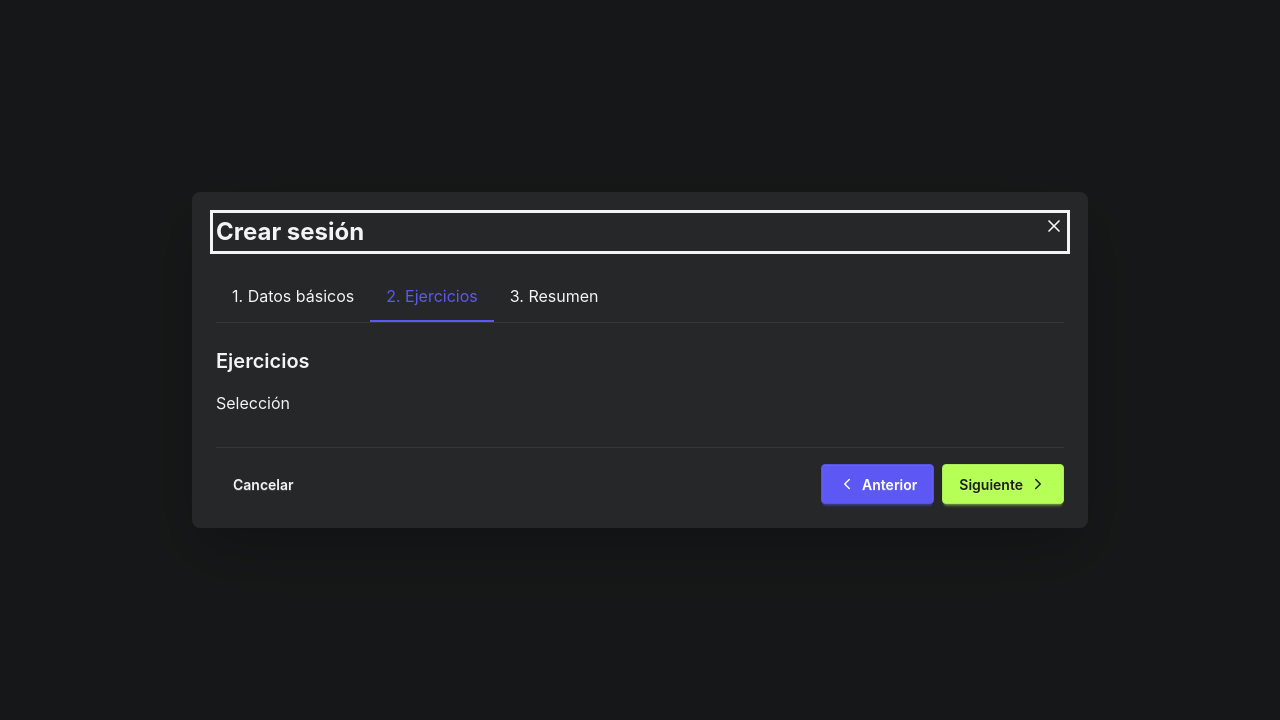
Test: shows summary without saving from the penultimate step
The width and height of the screenshot is (1280, 720).
Click the button "Siguiente".
click(1003, 484)  # box [942,464,1064,504]
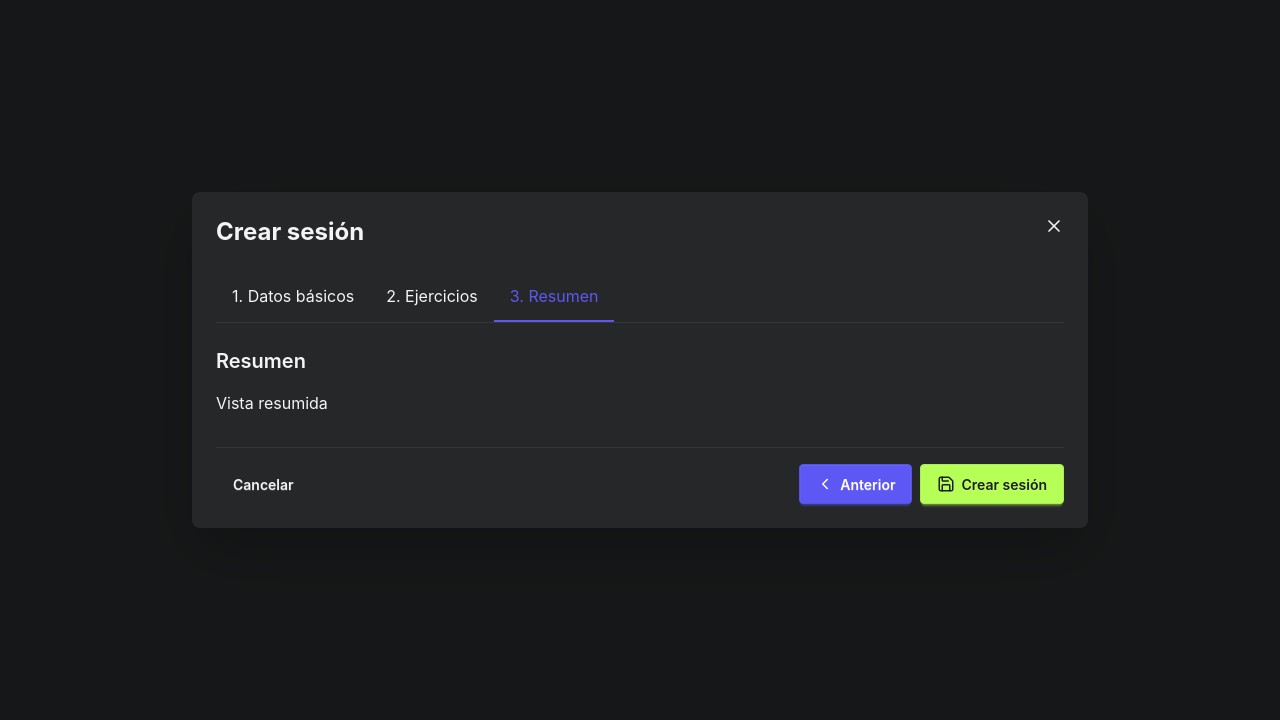
Now the text "Vista resumida" is shown, box [216,393,328,413]
Now the button "Crear sesión" is shown, box [920,464,1064,504]
